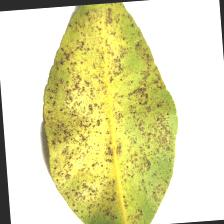canker: (59, 57, 156, 177)
